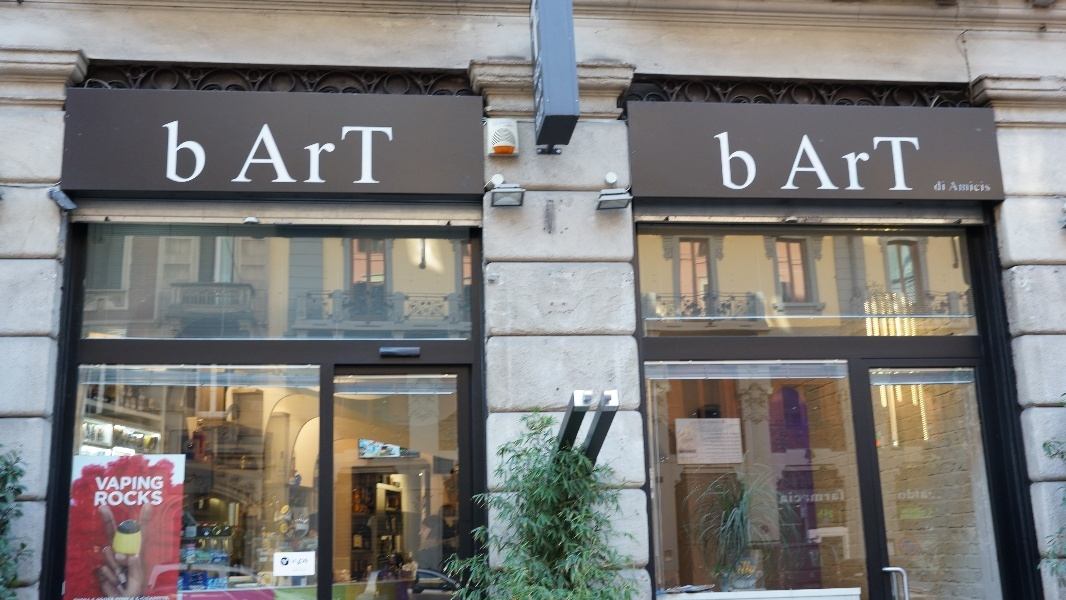text: (193, 119, 209, 187), (177, 119, 192, 187), (721, 130, 736, 195), (737, 130, 752, 195), (273, 125, 288, 187), (289, 125, 304, 187), (305, 125, 320, 187), (321, 125, 336, 187), (337, 125, 352, 187), (353, 125, 368, 187), (369, 125, 384, 187), (801, 135, 816, 194), (817, 135, 832, 194), (833, 135, 848, 194), (849, 135, 864, 194), (865, 135, 880, 194), (881, 135, 896, 194), (897, 135, 912, 194), (163, 119, 176, 187), (385, 125, 399, 187), (262, 125, 272, 187), (913, 135, 922, 194), (753, 130, 760, 195), (714, 130, 720, 195), (97, 473, 112, 491), (113, 473, 128, 491), (129, 473, 144, 491), (145, 473, 160, 491), (97, 490, 112, 508), (113, 490, 128, 508), (129, 490, 144, 508), (145, 490, 160, 508), (785, 489, 800, 505), (801, 489, 816, 505), (817, 489, 832, 505), (977, 179, 993, 193), (961, 179, 976, 193), (833, 489, 846, 505), (913, 489, 928, 502), (898, 489, 912, 502), (934, 178, 944, 193), (950, 179, 960, 193), (779, 489, 784, 505), (161, 473, 165, 491), (161, 490, 164, 508), (945, 178, 948, 193), (929, 489, 932, 502), (94, 473, 96, 491), (94, 490, 96, 508)
